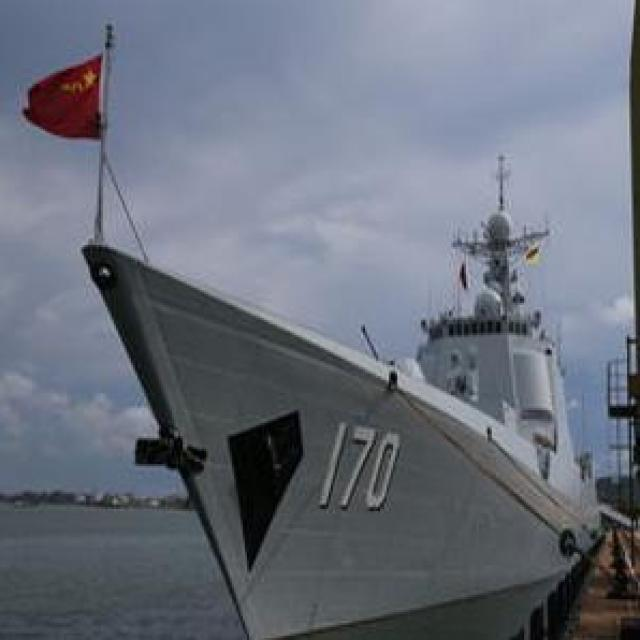navalvessels: (68, 174, 611, 628)
